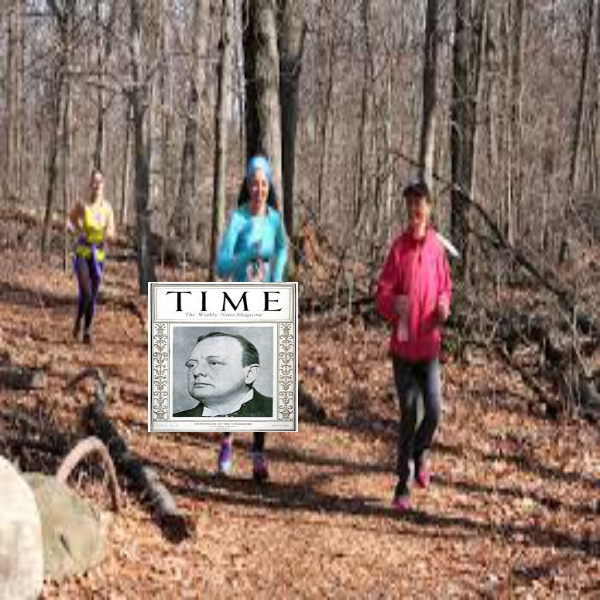time_cover: (137, 268, 299, 435)
